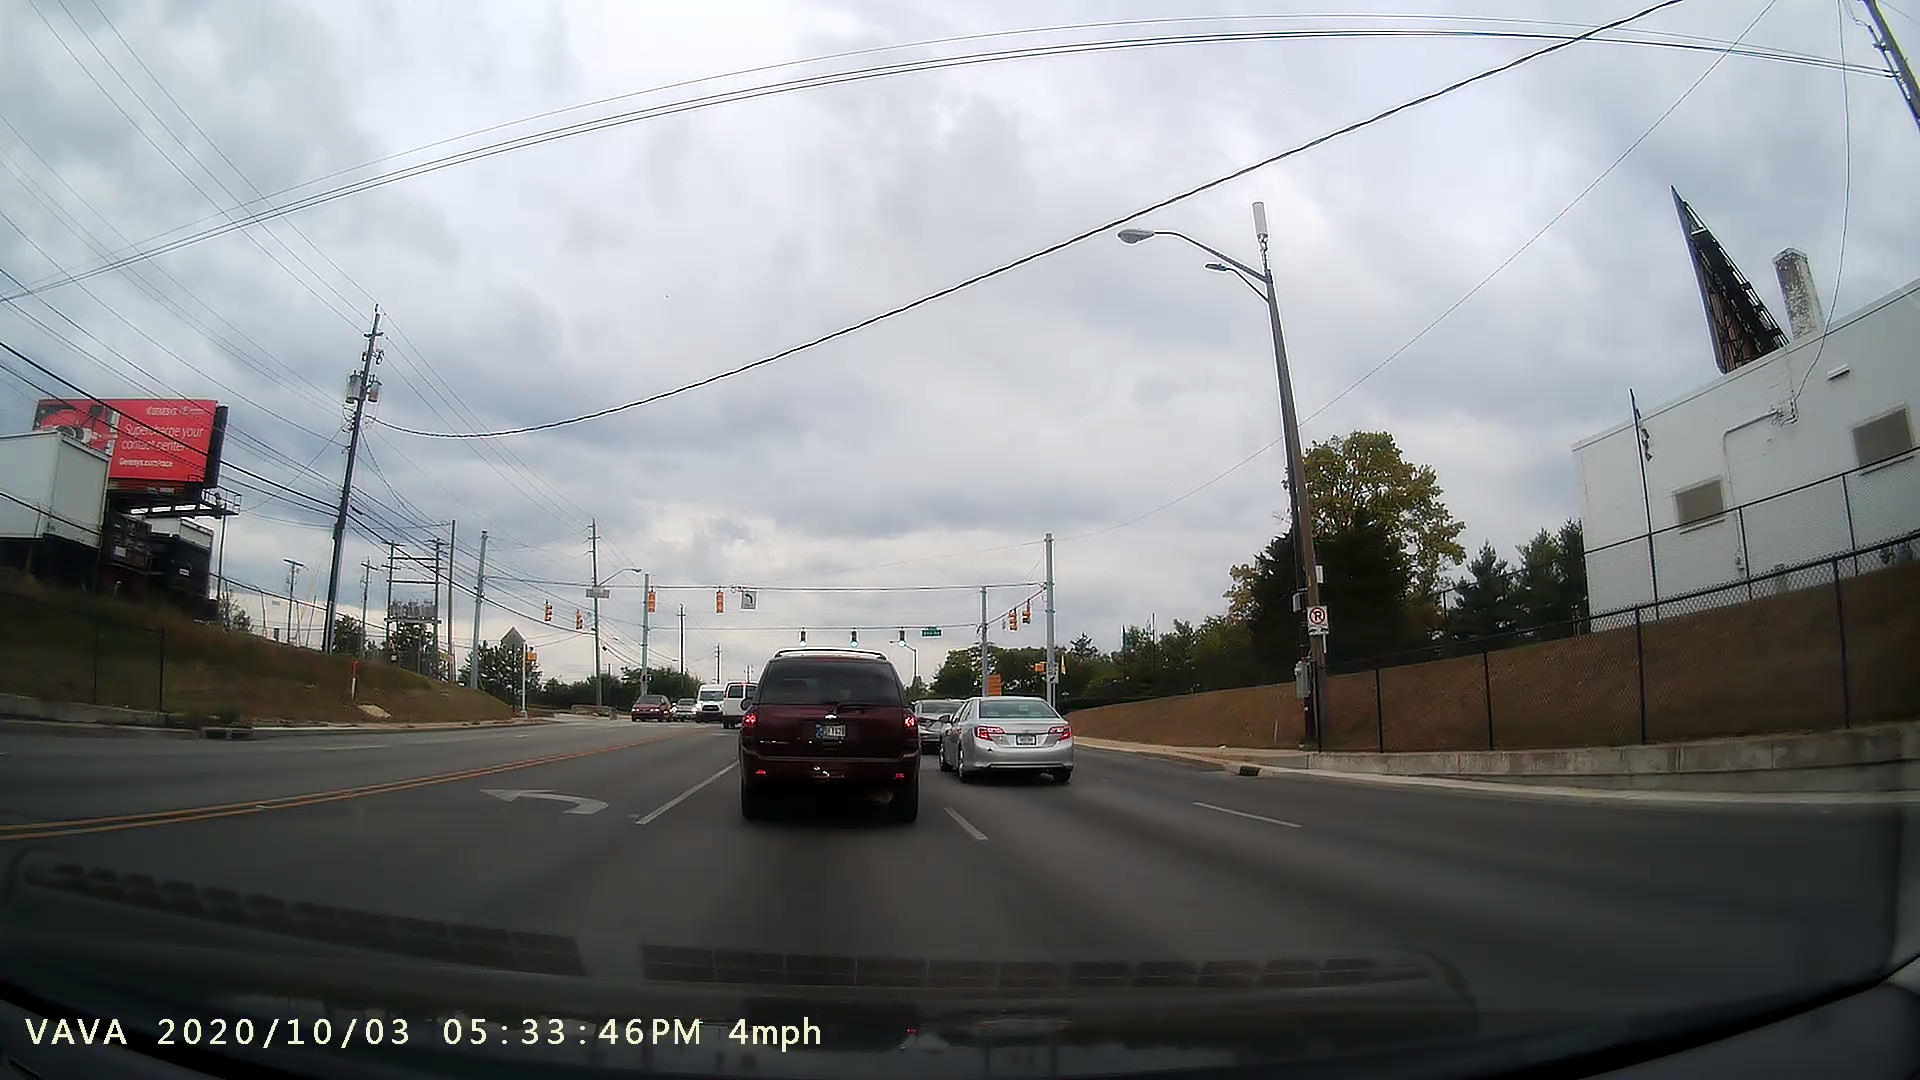left_turn: (468, 771, 622, 833)
